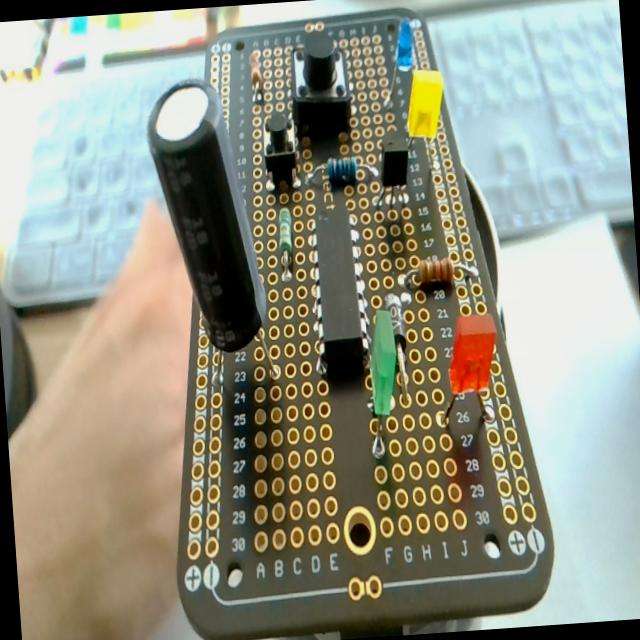Electrolytic capacitor: (142, 73, 278, 401)
IC: (302, 218, 372, 380)
diode: (383, 292, 412, 410)
led: (438, 310, 502, 426), (361, 312, 402, 458), (379, 18, 416, 108), (402, 66, 446, 140)
resistor: (274, 205, 296, 288), (414, 254, 454, 285), (325, 154, 357, 188), (247, 49, 264, 101)
switch: (288, 28, 352, 134), (260, 110, 298, 189)
transistor: (375, 134, 414, 208)
